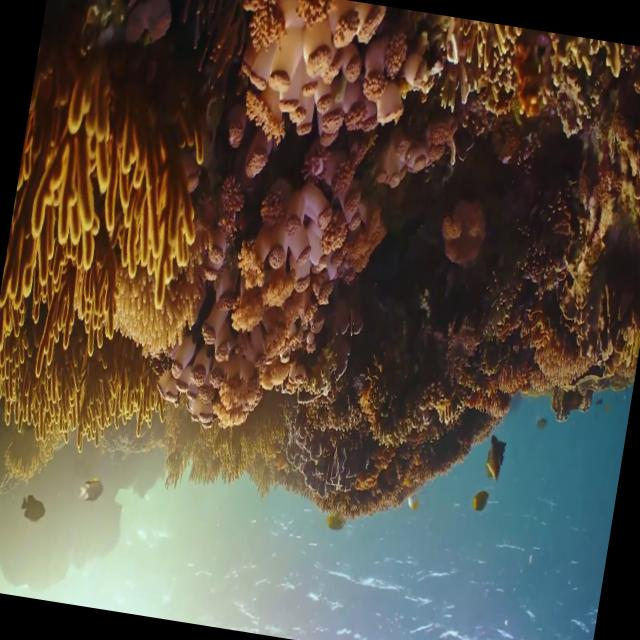fish: (16, 490, 50, 529)
